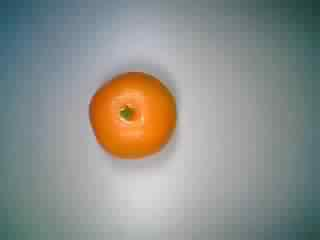orange: (84, 67, 179, 169)
